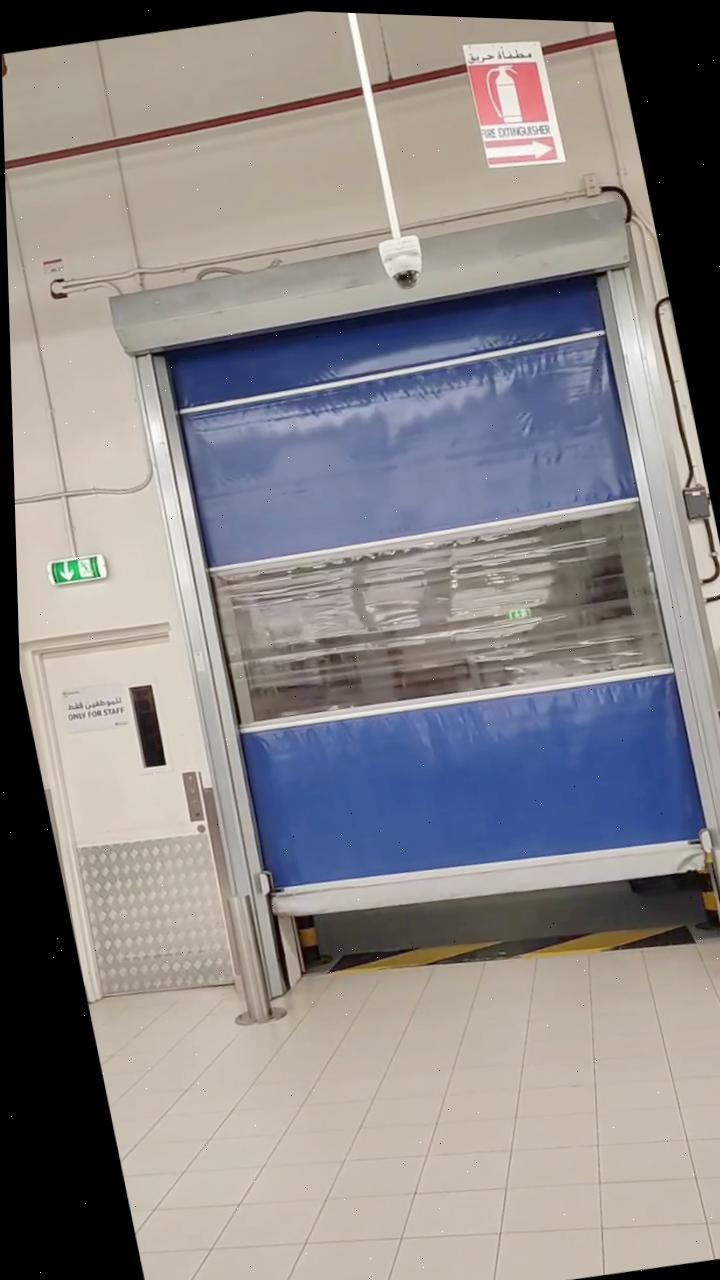Strip: (323, 890, 667, 998)
